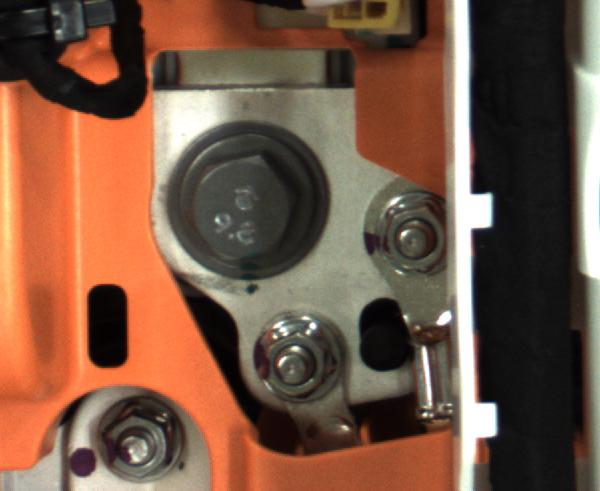nut_b: (156, 118, 327, 272)
screw_s: (248, 311, 346, 411), (370, 192, 469, 281), (94, 400, 191, 487)
